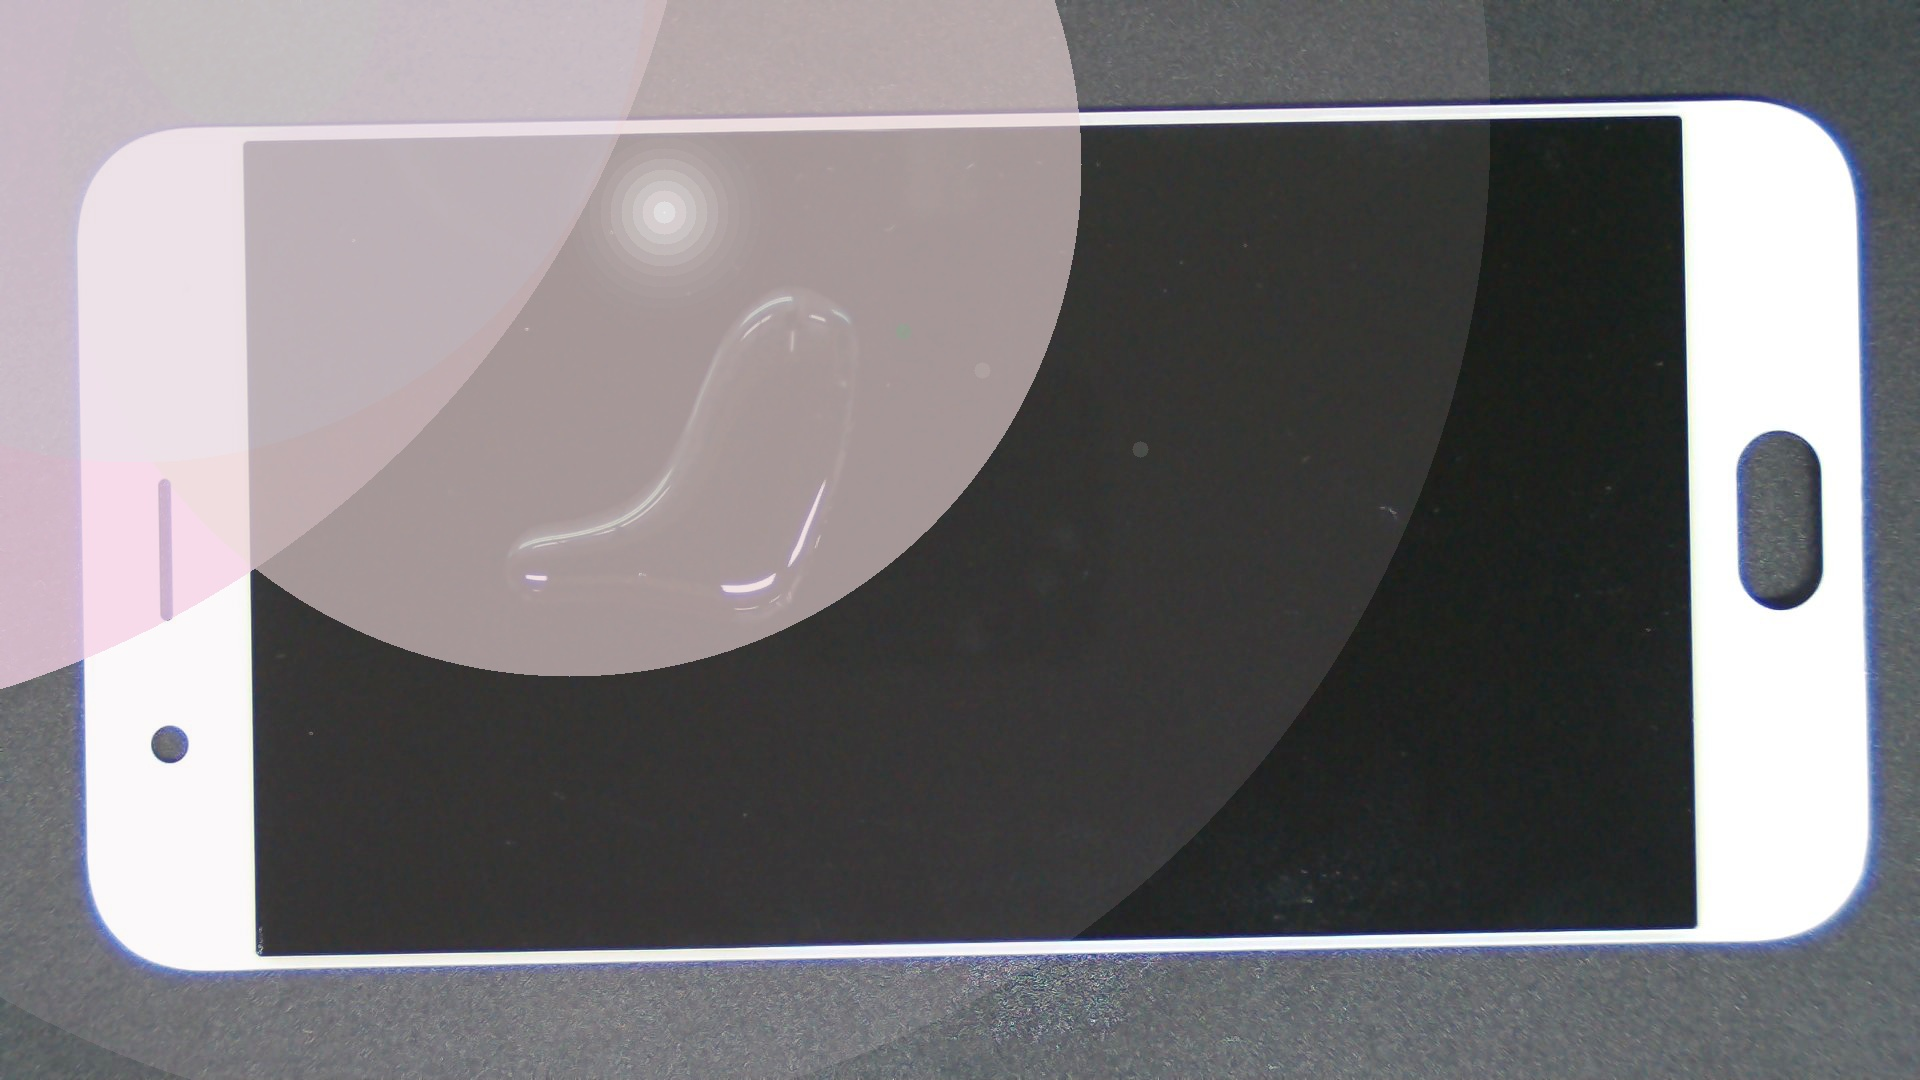oil: (394, 142, 1182, 429)
